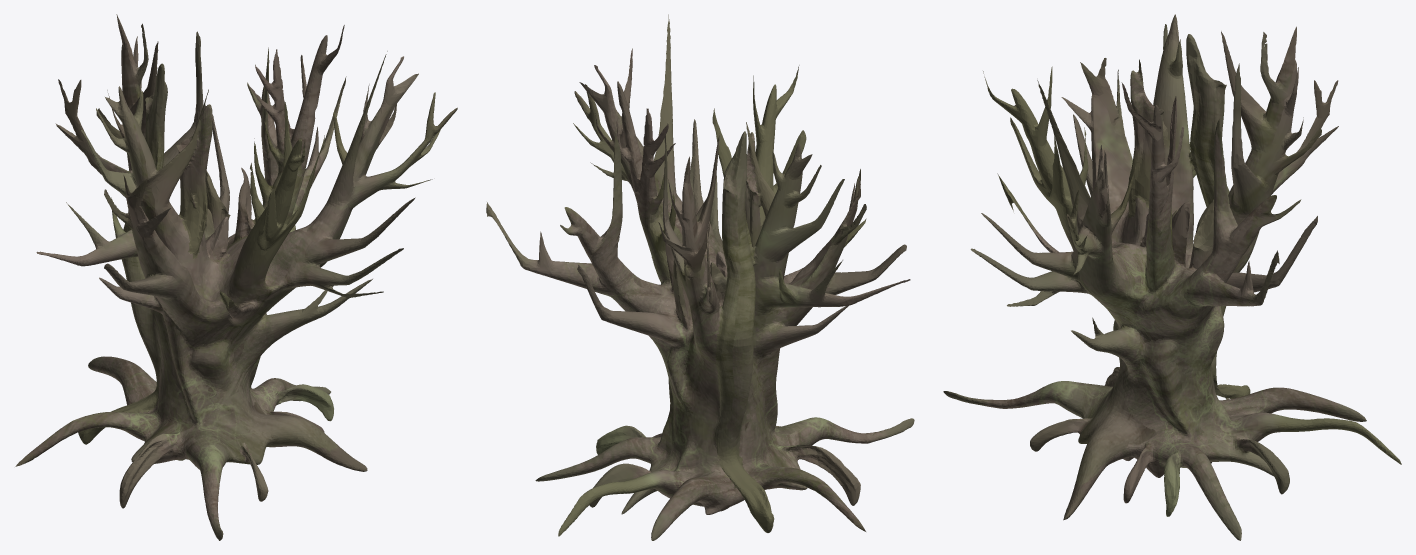
3 views of the same model, side by side, from view 1: azimuth 30°, elevation 25°; view 2: azimuth 150°, elevation 25°; view 3: azimuth 270°, elevation 25° (orthographic). The views are drawn at different scales.
Visible parts, largest first — view 1: BASE1_Group60857; view 2: BASE1_Group60857; view 3: BASE1_Group60857.
Boxes of the visible parts, box(x1,y1,x2,y2) form: BASE1_Group60857: box(15, 14, 457, 540); BASE1_Group60857: box(486, 14, 914, 540); BASE1_Group60857: box(943, 14, 1401, 540).
Size of the model in its own units: 5.7 by 6.08 by 5.65.
1 material, 1 textured.
